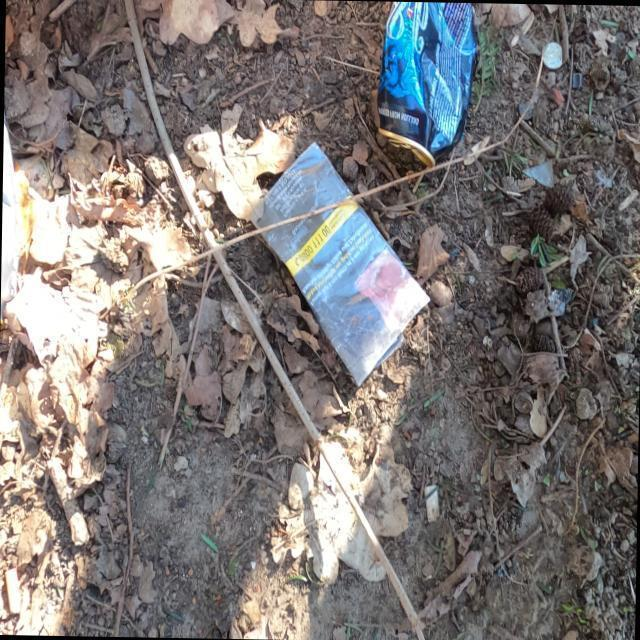Can-Metal: (376, 0, 479, 168)
Paper: (251, 138, 433, 390)
